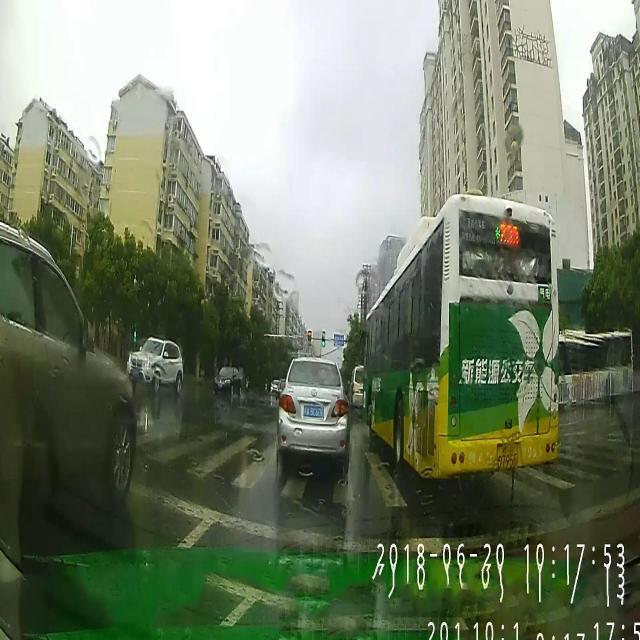car: (0, 214, 136, 507), (275, 356, 353, 478), (128, 333, 184, 396), (213, 361, 242, 401), (350, 363, 364, 410)
